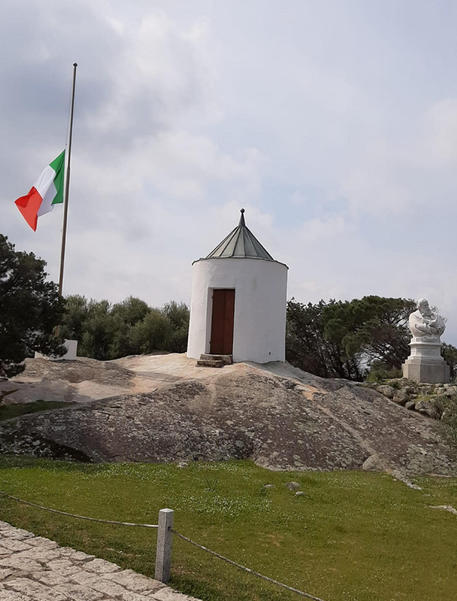Flag: (11, 142, 74, 233)
